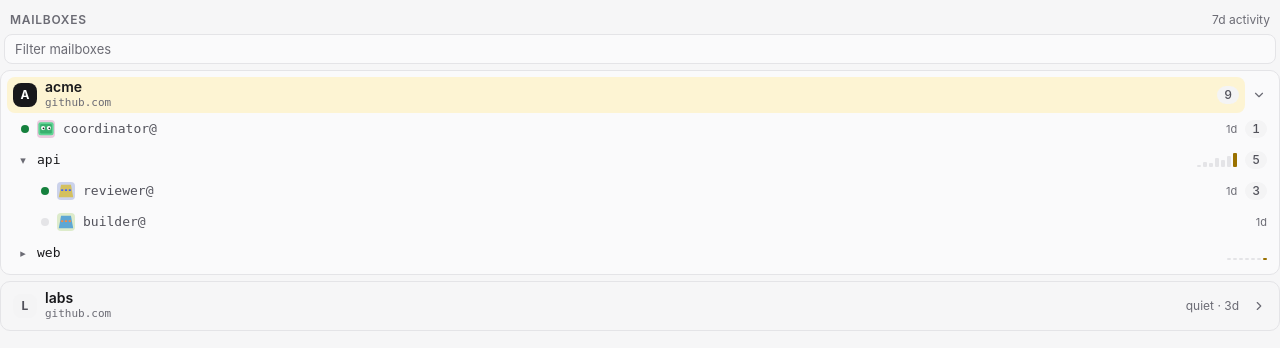
it: MailboxTree › collapses a selected org on request without persisting it as expanded
Click the button named "Collapse acme" at (1259, 95), box [1245,81,1273,109]
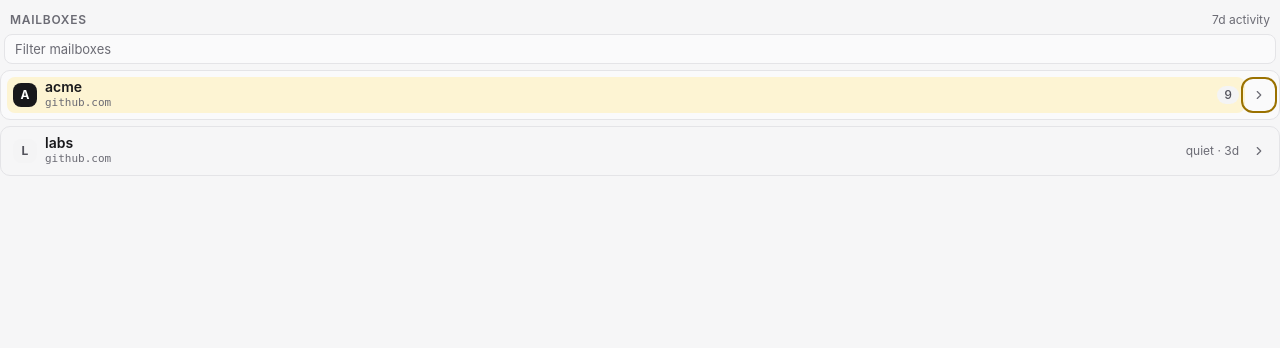
Result: the link "coordinator@" is gone
